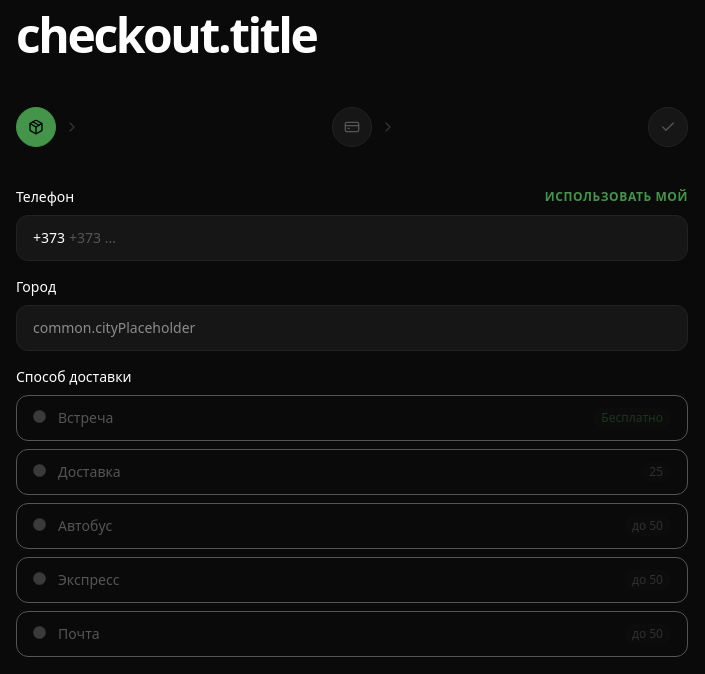
Test: CheckoutPage — legacy profile phone › offers the shortcut for a +373 profile phone and fills the field
Click the button with test id "checkout-use-my-phone" at (616, 197), box [545,189,688,205]
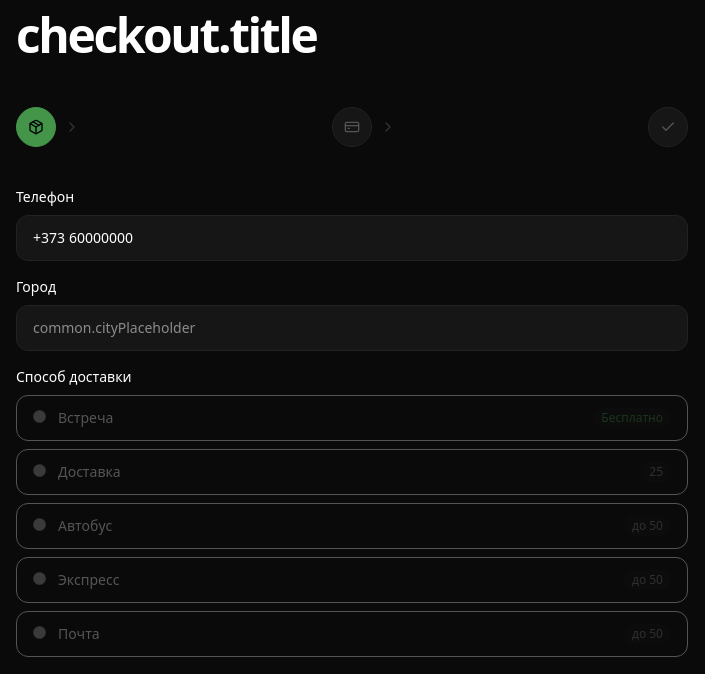
Check: the field with test id "checkout-phone" holds "60000000", box [69,228,671,248]
